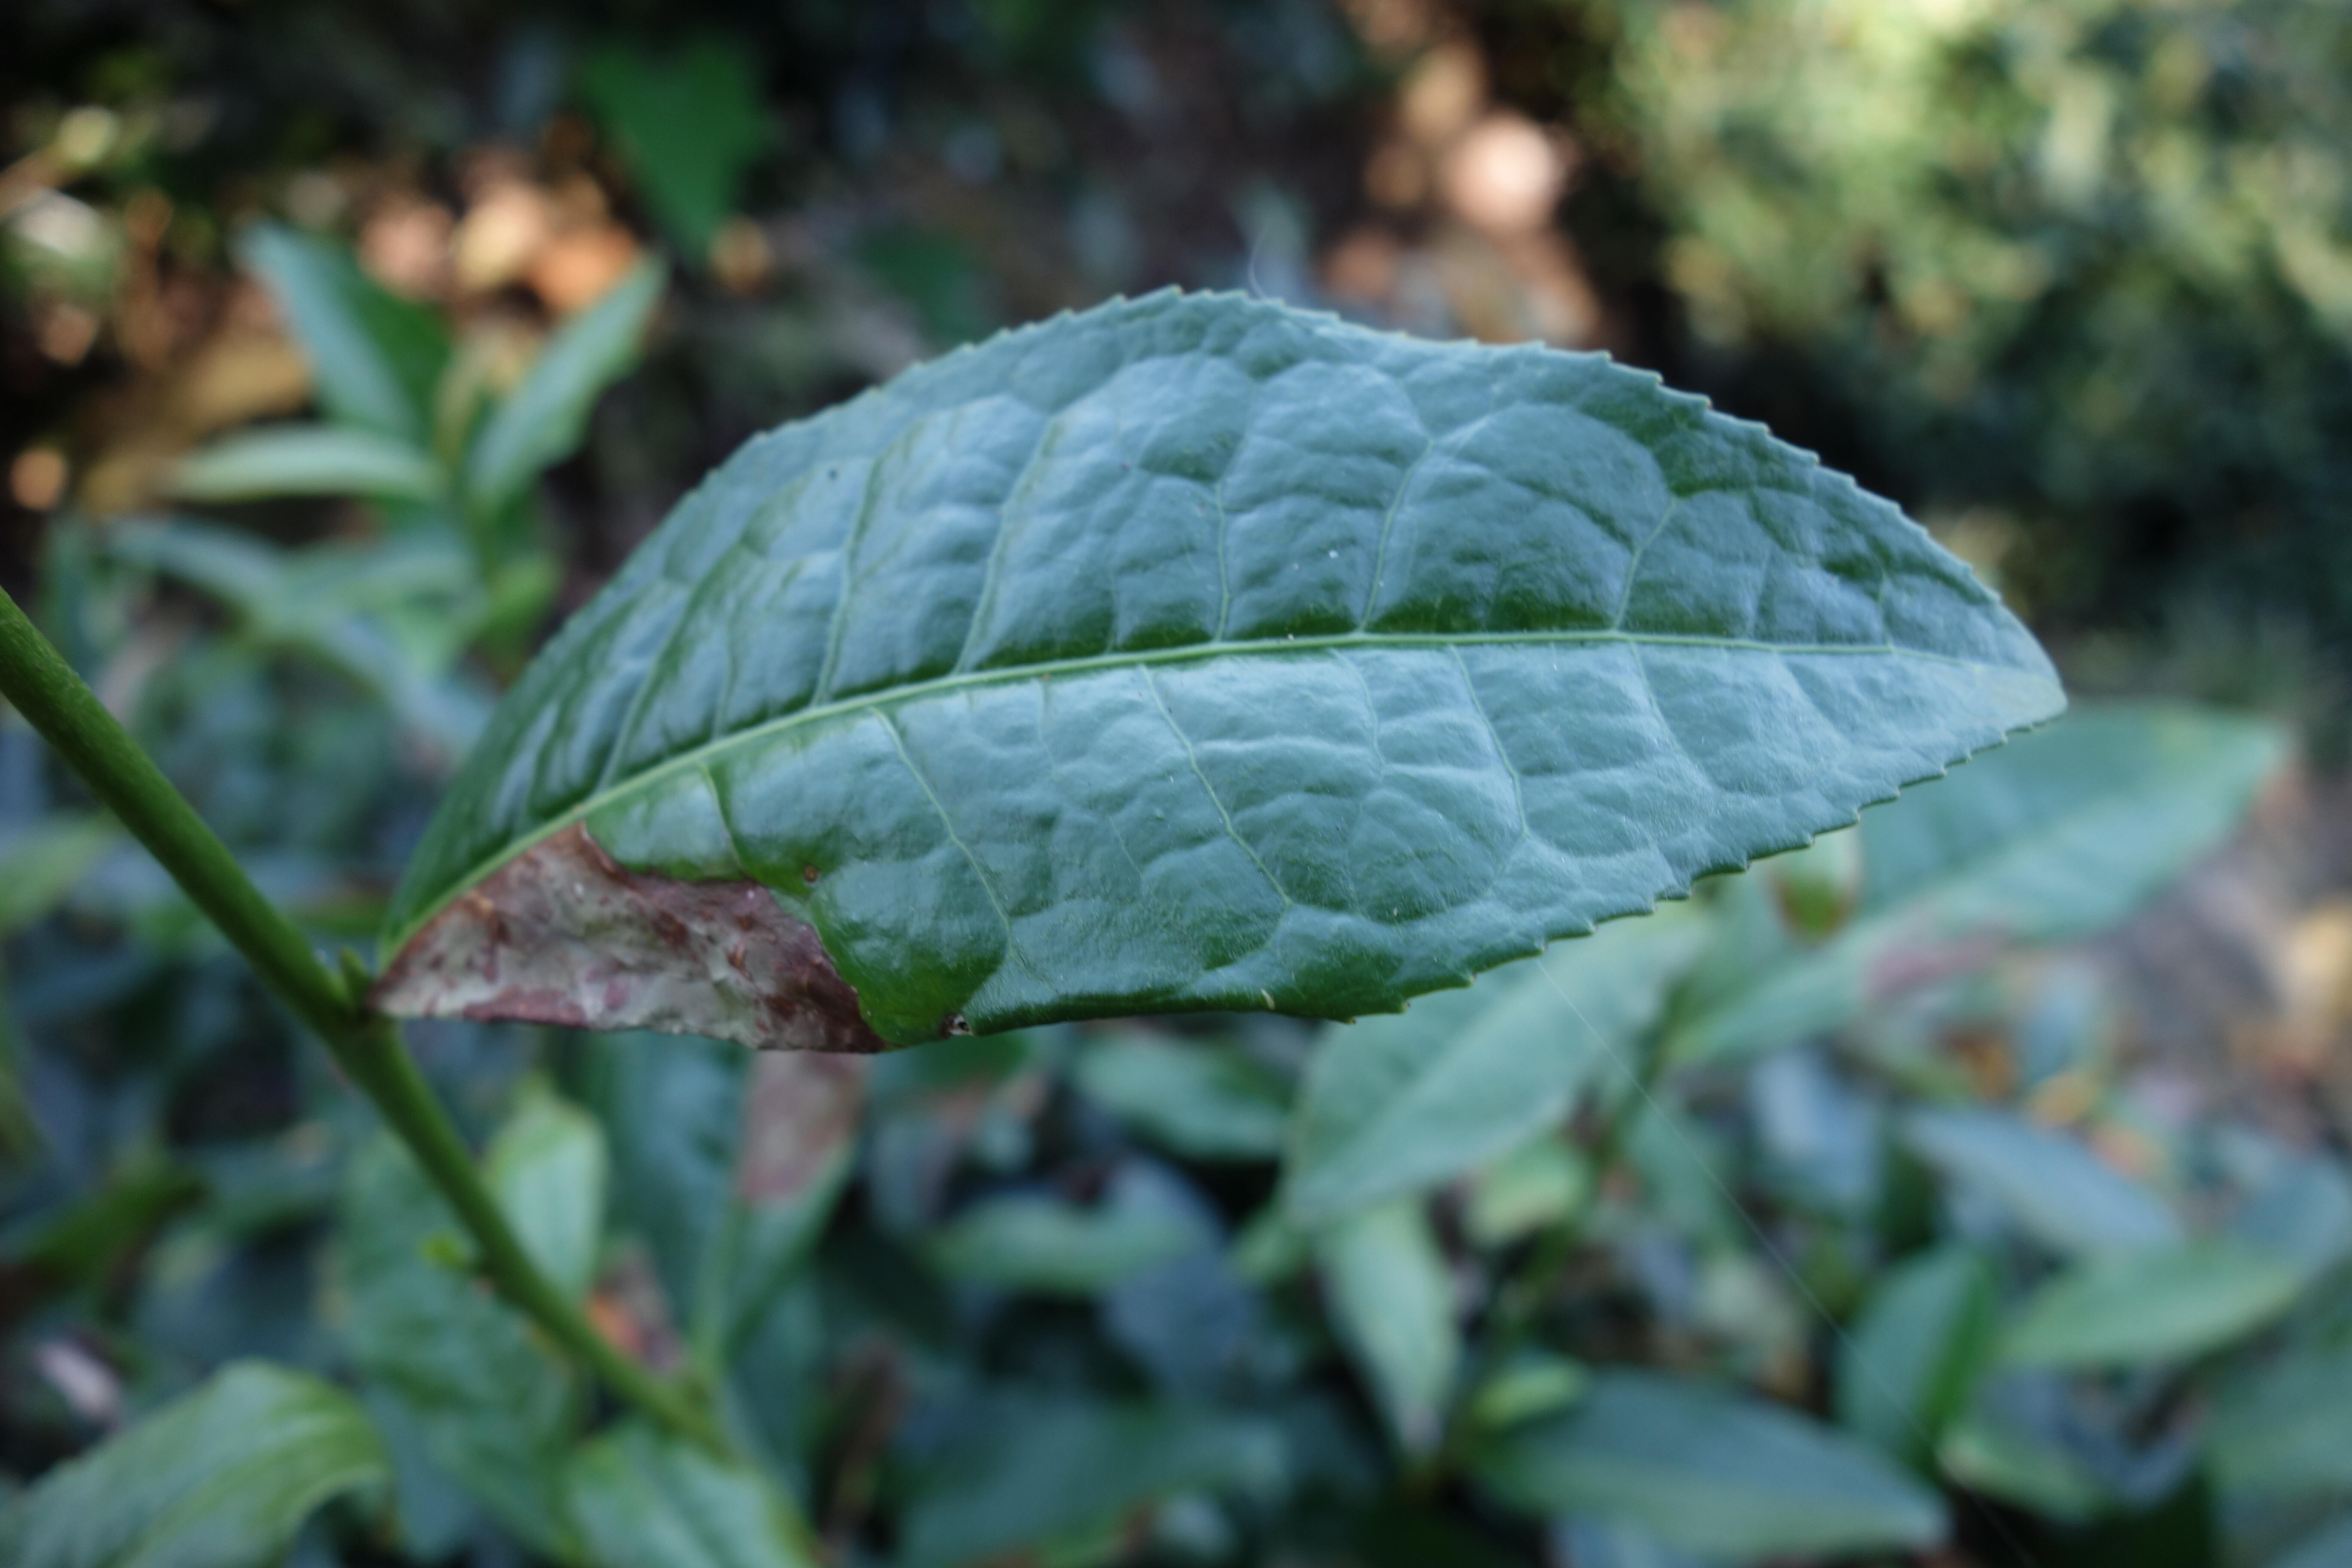tanju_high: (362, 280, 2072, 1053)
